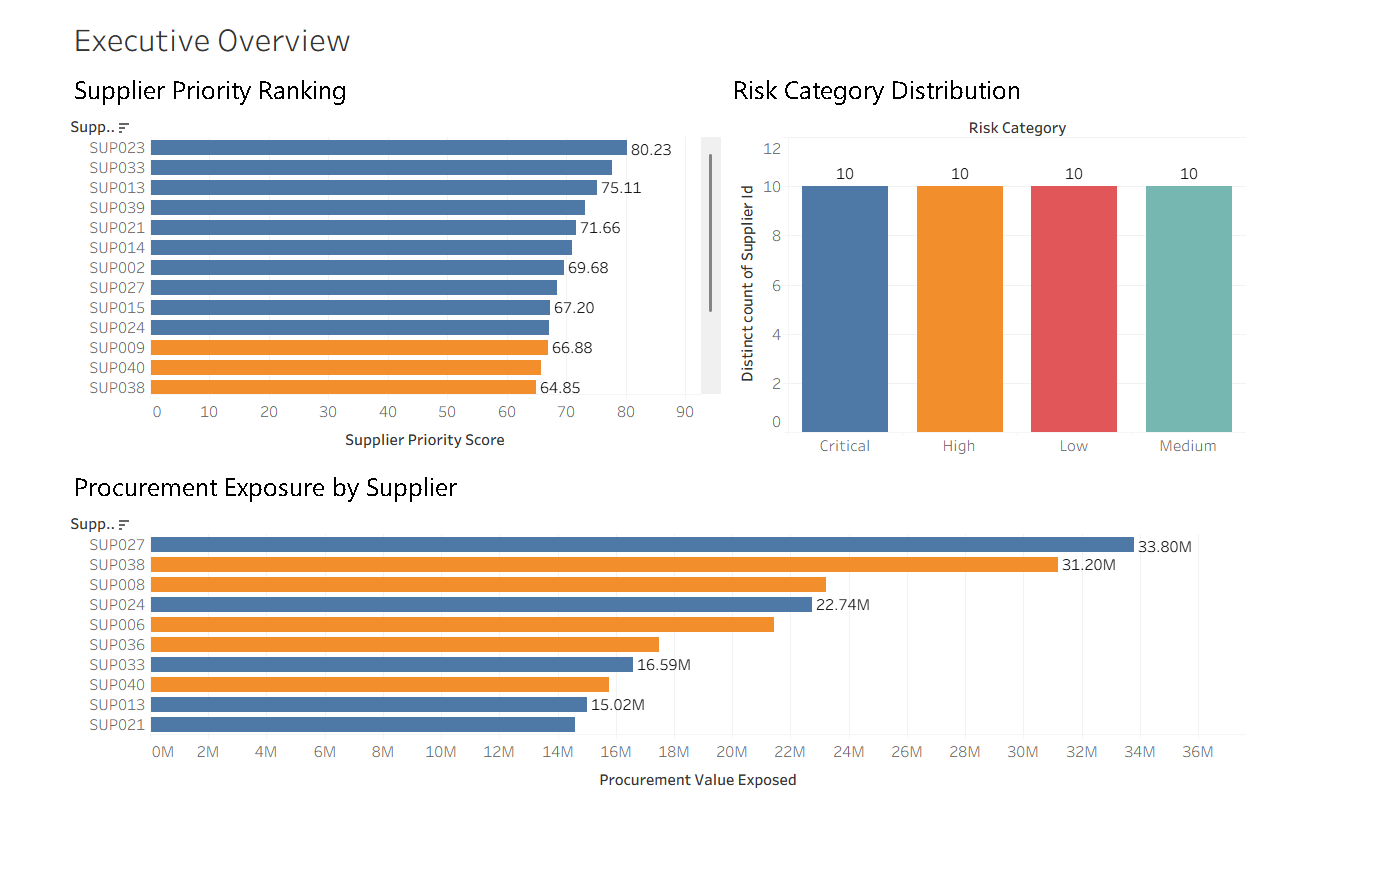

The dashboard page shown, as its layout file describes it:
{"tool":"tableau","page":{"name":"Executive Overview","canvas":[1000,1000],"units":"permille","ordinal":1},"visuals":[{"type":"title","box":[6.7,10,986.7,62.4]},{"type":"worksheet","title":"Supplier Priority Ranking","mark":"Automatic","rows":["supplier_id"],"cols":["supplier_priority_score"],"box":[6.7,72.3,549.2,458.8]},{"type":"worksheet","title":"Risk Category Distribution","mark":"Automatic","rows":["supplier_id"],"cols":["risk_category"],"box":[555.8,72.3,437.5,458.8]},{"type":"worksheet","title":"Procurement Exposure","mark":"Automatic","rows":["supplier_id"],"cols":["procurement_value_exposed"],"box":[6.7,531.2,986.7,435.2]}]}

Visuals, with their boxes on the dashboard's canvas, which has no fixed pixel size, in thousandths of its width and height (x1, y1, x2, y2). These are canvas units, not pixel positions in the 1390x880 screenshot, which may show the page scaled, cropped or inside an application window:
title: (7, 10, 993, 72)
"Supplier Priority Ranking" worksheet: (7, 72, 556, 531)
"Risk Category Distribution" worksheet: (556, 72, 993, 531)
"Procurement Exposure" worksheet: (7, 531, 993, 966)
